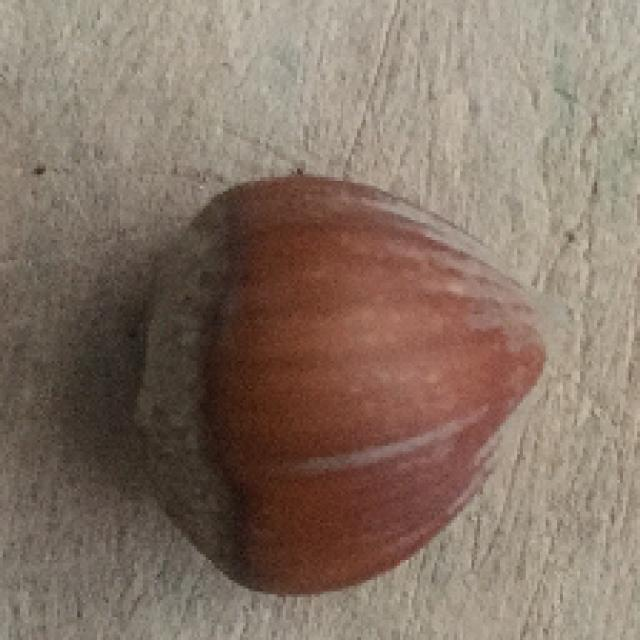qualityHazelnut: (110, 159, 549, 601)
